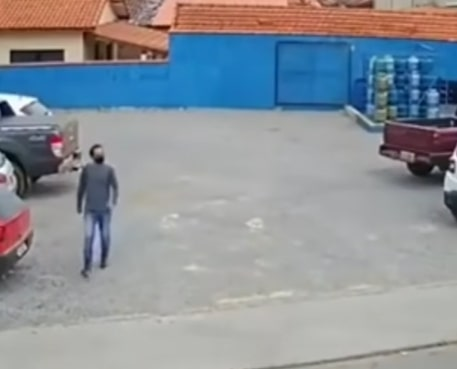person: (63, 130, 128, 286)
